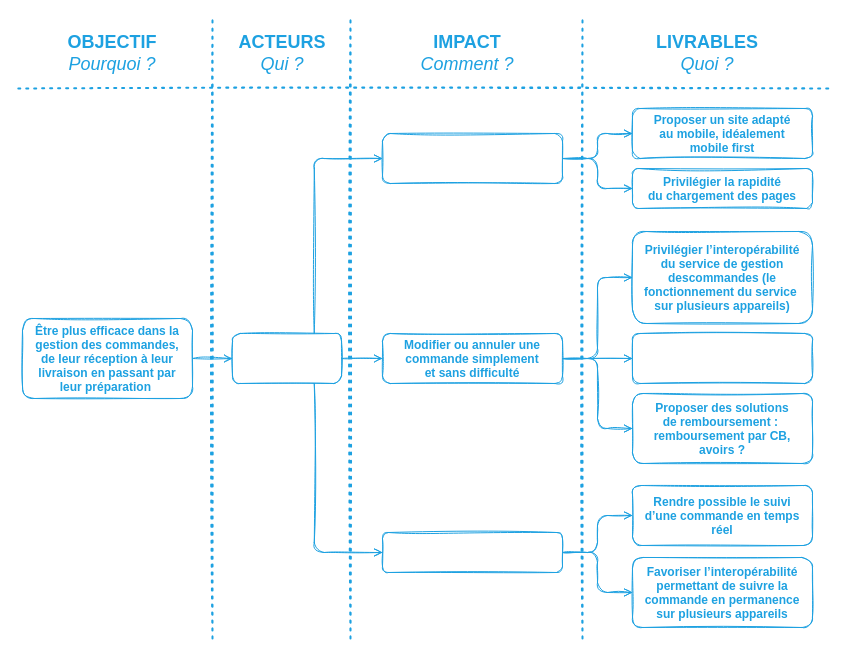
Some shapes in this 852 by 657 pixel diagram are drawn without their labels. Each missing label, with the centre of its shape:
Lia la cliente: (x=287, y=358)
Optimiser le processus de commande: (x=722, y=358)
Passer une commande rapidement et en toutes circonstances: (x=472, y=158)
Savoir quand la commande sera livrée précisément: (x=472, y=552)
